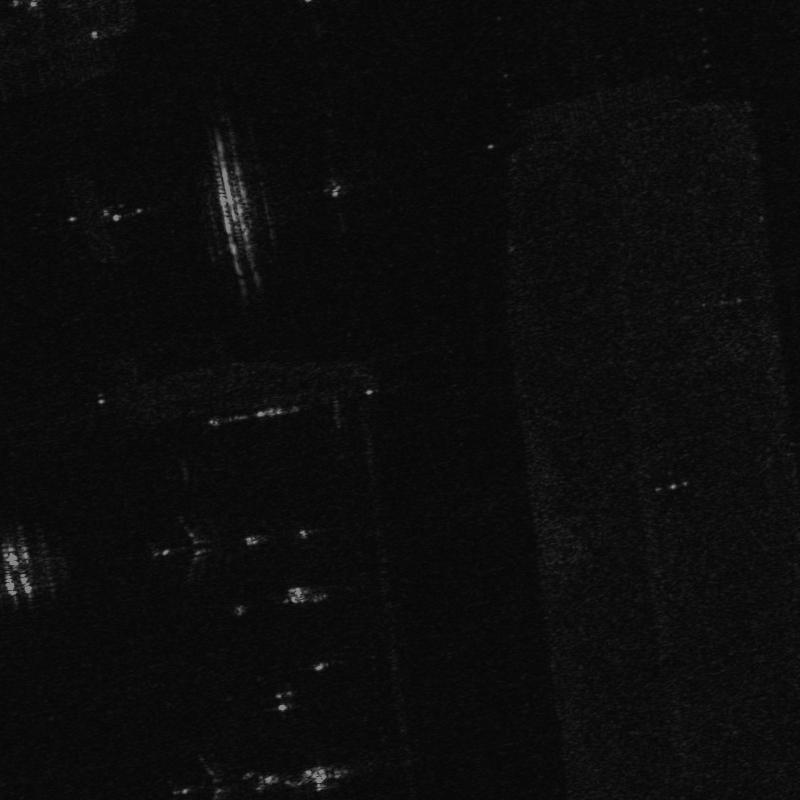Boeing737: (142, 504, 225, 589), (155, 743, 246, 799)
